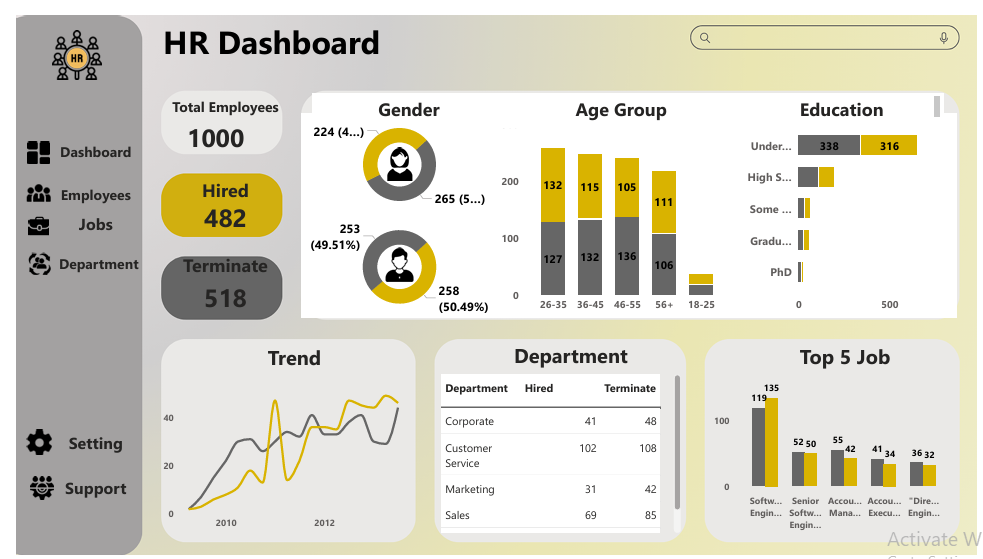

The dashboard page shown, as its layout file describes it:
{"tool":"powerbi","page":{"name":"Page 1","canvas":[1280,720],"ordinal":0},"visuals":[{"type":"textbox","box":[190,0,380,85.7],"z":0},{"type":"card","fields":{"Values":["HR_Dataset.Total_E3mployees"]},"box":[172.9,112.9,184.3,98.6],"z":1},{"type":"card","fields":{"Values":["HR_Dataset.Hired"]},"box":[185.7,227.1,184.3,84.3],"z":2},{"type":"card","fields":{"Values":["HR_Dataset.Terminate"]},"box":[185.7,320,184.3,111.4],"z":3},{"type":"donutChart","fields":{"Category":["HR_Dataset.Active_Status"],"Y":["CountNonNull(HR_Dataset.Gender)"]},"box":[380,130,260,135.7],"z":4},{"type":"donutChart","fields":{"Category":["HR_Dataset.Active_Status"],"Y":["CountNonNull(HR_Dataset.Gender)"]},"box":[380,265.7,260,137.1],"z":5},{"type":"columnChart","fields":{"Category":["HR_Dataset.Age_Group"],"Y":["CountNonNull(HR_Dataset.EmployeeID)"],"Series":["HR_Dataset.Active_Status"]},"box":[640,130,314.3,272.9],"z":6},{"type":"barChart","fields":{"Category":["HR_Dataset.Education"],"Y":["CountNonNull(HR_Dataset.EmployeeID)"],"Series":["HR_Dataset.Active_Status"]},"box":[954.3,130,298.6,272.9],"z":7},{"type":"lineChart","fields":{"Y":["CountNonNull(HR_Dataset.EmployeeID)"],"Series":["HR_Dataset.Active_Status"],"Category":["HR_Dataset.Start_Date.Variation.Date Hierarchy.Year","HR_Dataset.Start_Date.Variation.Date Hierarchy.Quarter"]},"box":[190,488.6,337.1,205.7],"z":8},{"type":"tableEx","fields":{"Values":["HR_Dataset.Department","HR_Dataset.Hired","HR_Dataset.Terminate"]},"box":[560,472.9,330,221.4],"z":9},{"type":"clusteredColumnChart","fields":{"Category":["HR_Dataset.Job_title"],"Y":["CountNonNull(HR_Dataset.EmployeeID)"],"Series":["HR_Dataset.Active_Status"]},"box":[924.3,472.9,328.6,221.4],"z":10},{"type":"textbox","box":[185.7,102.9,184.3,54.3],"z":11},{"type":"textbox","box":[185.7,211.4,184.3,50],"z":12},{"type":"textbox","box":[185.7,311.4,184.3,55.7],"z":13},{"type":"textbox","box":[394.3,102.9,264.3,40],"z":14},{"type":"textbox","box":[640,102.9,331.4,45.7],"z":15},{"type":"textbox","box":[971.4,102.9,264.3,40],"z":16},{"type":"textbox","box":[277.1,431.4,185.7,54.3],"z":17},{"type":"textbox","box":[587.1,428.6,302.9,60],"z":18},{"type":"textbox","box":[1011.4,430,185.7,55.7],"z":19},{"type":"image","box":[478.6,171.4,62.9,54.3],"z":20},{"type":"image","box":[478.6,304.3,62.9,55.7],"z":21},{"type":"image","box":[0,547.1,60,44.3],"z":22},{"type":"image","box":[21.4,14.3,117.1,75.7],"z":23},{"type":"image","box":[1.4,608.6,64.3,41.4],"z":24},{"type":"image","box":[1.4,261.4,57.1,37.1],"z":25},{"type":"image","box":[7.1,211.4,44.3,50],"z":26},{"type":"image","box":[1.4,311.4,57.1,40],"z":27},{"type":"image","box":[4.3,162.9,50,40],"z":28},{"type":"textbox","box":[30,162.9,150,57.1],"z":29},{"type":"textbox","box":[30,220,150,54.3],"z":30},{"type":"textbox","box":[30,257.1,150,54.3],"z":31},{"type":"textbox","box":[34.3,312.9,150,41.4],"z":32},{"type":"textbox","box":[30,548.6,150,41.4],"z":33},{"type":"textbox","box":[30,608.6,150,54.3],"z":34}]}

Visuals, with their boxes on the page's 1280x720 design canvas (x1, y1, x2, y2). These are canvas units, not pixel positions in the 983x559 screenshot, which may show the page scaled, cropped or inside an application window:
textbox: <box>190,0,570,86</box>
card - HR_Dataset.Total_E3mployees: <box>173,113,357,212</box>
card - HR_Dataset.Hired: <box>186,227,370,311</box>
card - HR_Dataset.Terminate: <box>186,320,370,431</box>
donutChart - HR_Dataset.Active_Status x CountNonNull(HR_Dataset.Gender): <box>380,130,640,266</box>
donutChart - HR_Dataset.Active_Status x CountNonNull(HR_Dataset.Gender): <box>380,266,640,403</box>
columnChart - HR_Dataset.Age_Group x CountNonNull(HR_Dataset.EmployeeID): <box>640,130,954,403</box>
barChart - HR_Dataset.Education x CountNonNull(HR_Dataset.EmployeeID): <box>954,130,1253,403</box>
lineChart - CountNonNull(HR_Dataset.EmployeeID) x HR_Dataset.Active_Status: <box>190,489,527,694</box>
tableEx - HR_Dataset.Department x HR_Dataset.Hired: <box>560,473,890,694</box>
clusteredColumnChart - HR_Dataset.Job_title x CountNonNull(HR_Dataset.EmployeeID): <box>924,473,1253,694</box>
textbox: <box>186,103,370,157</box>
textbox: <box>186,211,370,261</box>
textbox: <box>186,311,370,367</box>
textbox: <box>394,103,659,143</box>
textbox: <box>640,103,971,149</box>
textbox: <box>971,103,1236,143</box>
textbox: <box>277,431,463,486</box>
textbox: <box>587,429,890,489</box>
textbox: <box>1011,430,1197,486</box>
image: <box>479,171,542,226</box>
image: <box>479,304,542,360</box>
image: <box>0,547,60,591</box>
image: <box>21,14,138,90</box>
image: <box>1,609,66,650</box>
image: <box>1,261,58,298</box>
image: <box>7,211,51,261</box>
image: <box>1,311,58,351</box>
image: <box>4,163,54,203</box>
textbox: <box>30,163,180,220</box>
textbox: <box>30,220,180,274</box>
textbox: <box>30,257,180,311</box>
textbox: <box>34,313,184,354</box>
textbox: <box>30,549,180,590</box>
textbox: <box>30,609,180,663</box>
